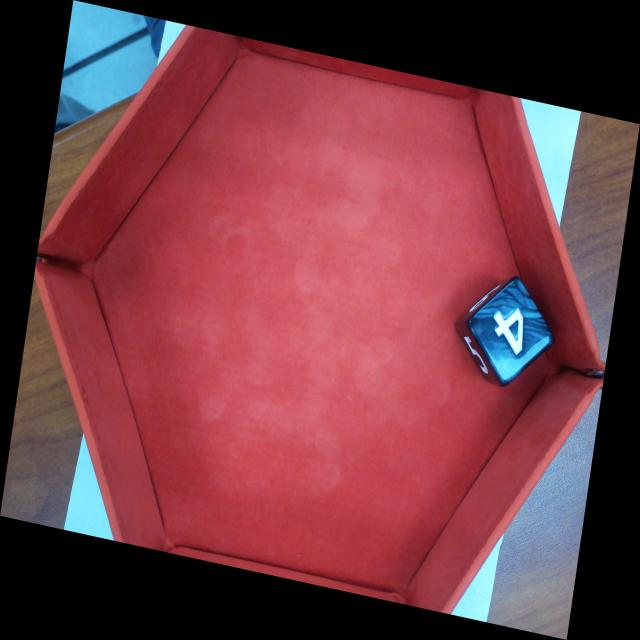dice: (468, 273, 558, 387)
